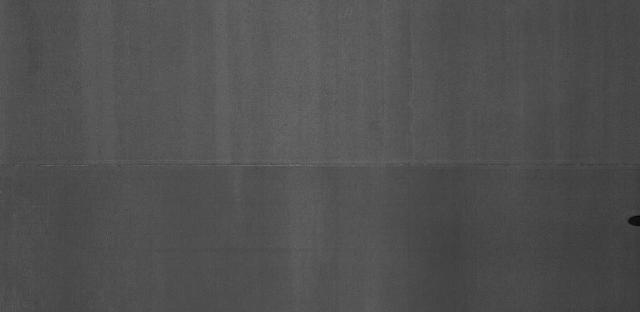punching_hole: (625, 212, 639, 230)
welding_line: (2, 155, 637, 174)
